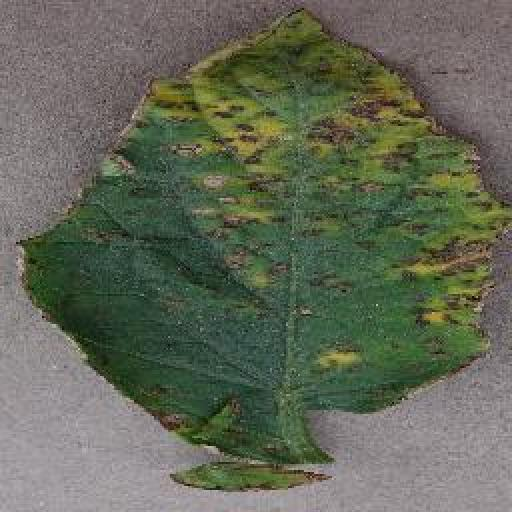Bacterial Spot: (13, 3, 512, 461)
